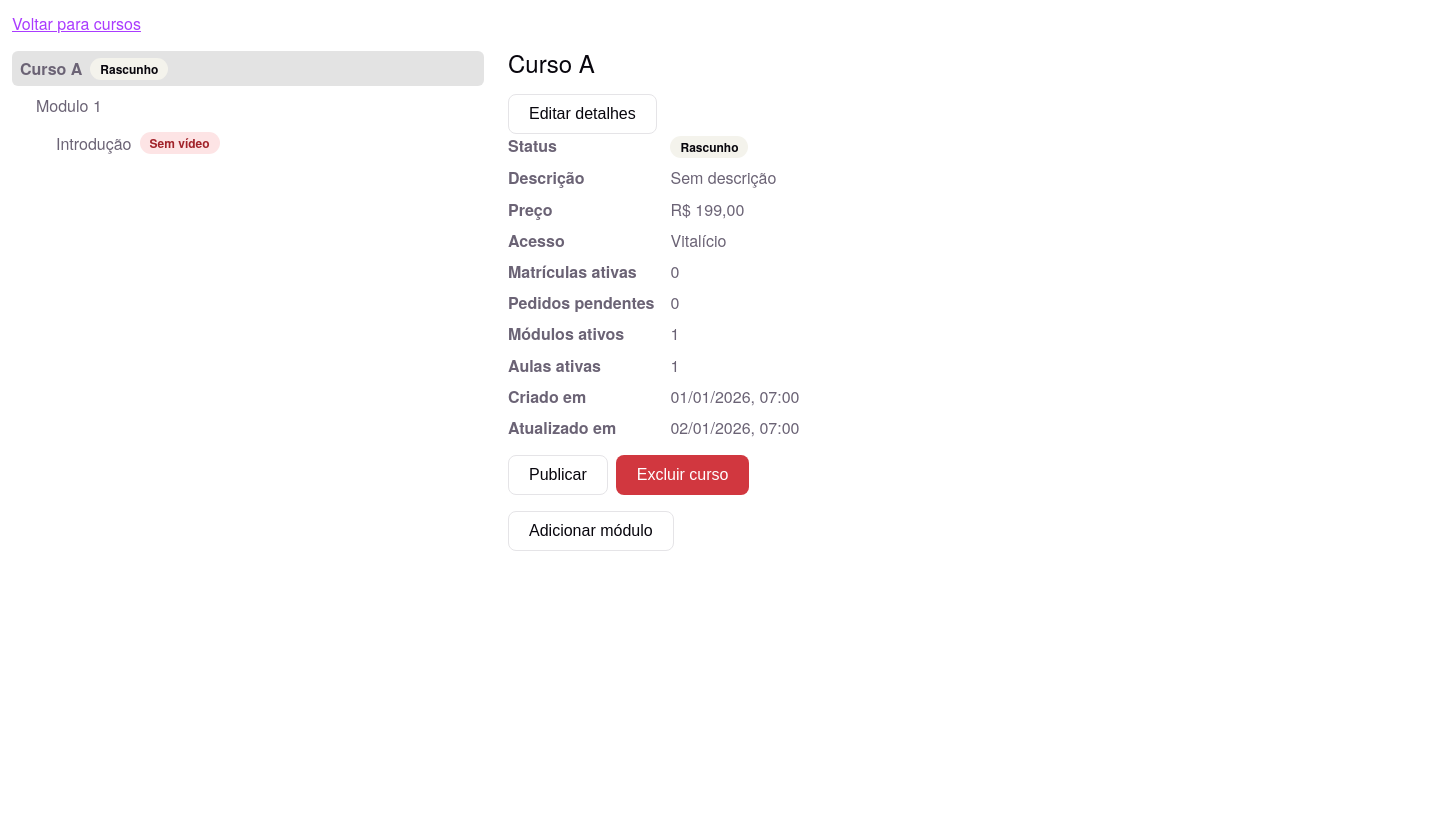
Test: changing status › lists the gate violations, naming the lessons, and keeps the status
Click the button "Publicar".
click(558, 475)  # box [508,455,608,495]
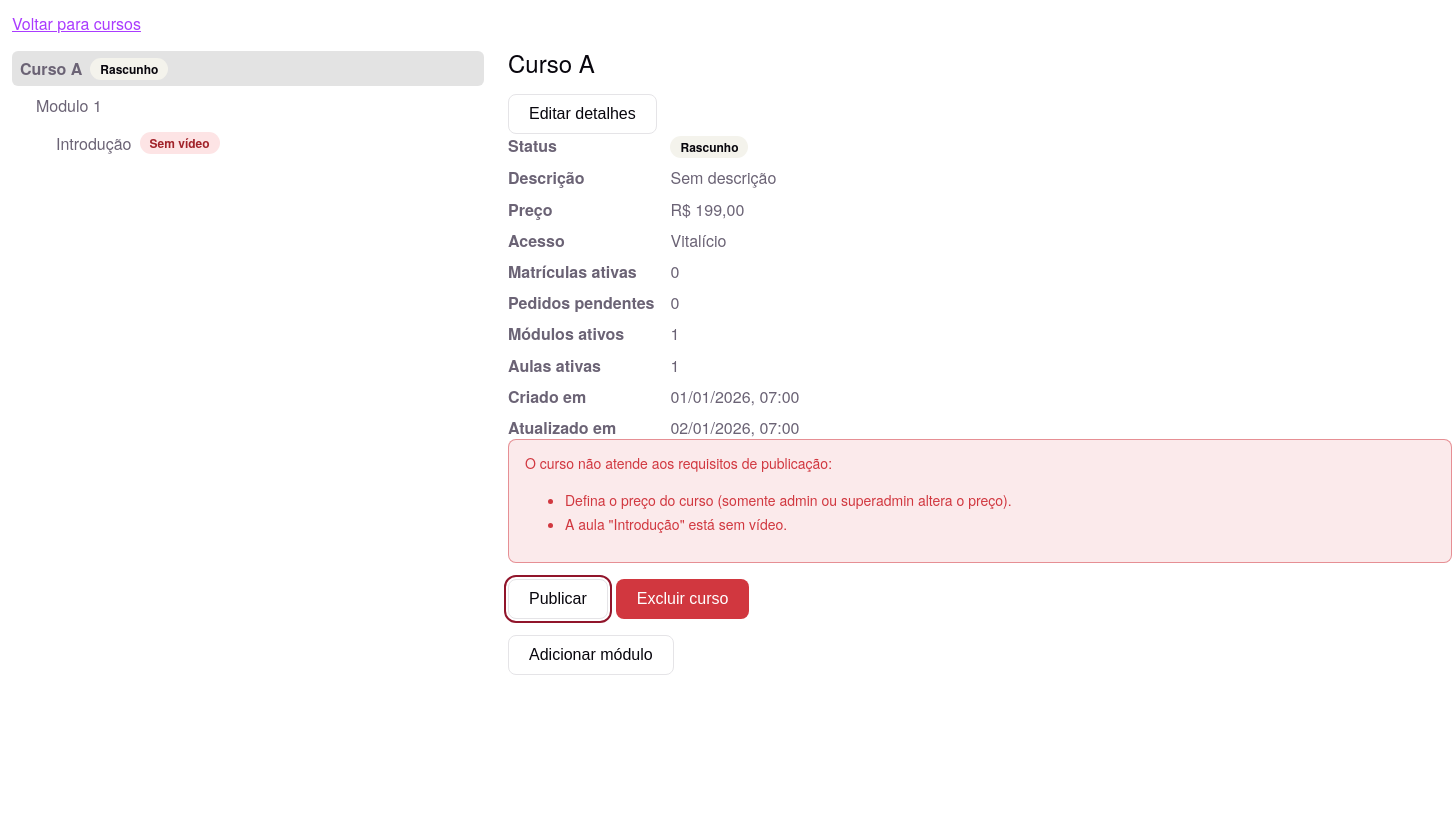
Now the 4th list item shows "preço", box [565,490,1012,510]
Now the list item "A aula \"Introdução\" está sem vídeo." is shown, box [565,514,787,534]
